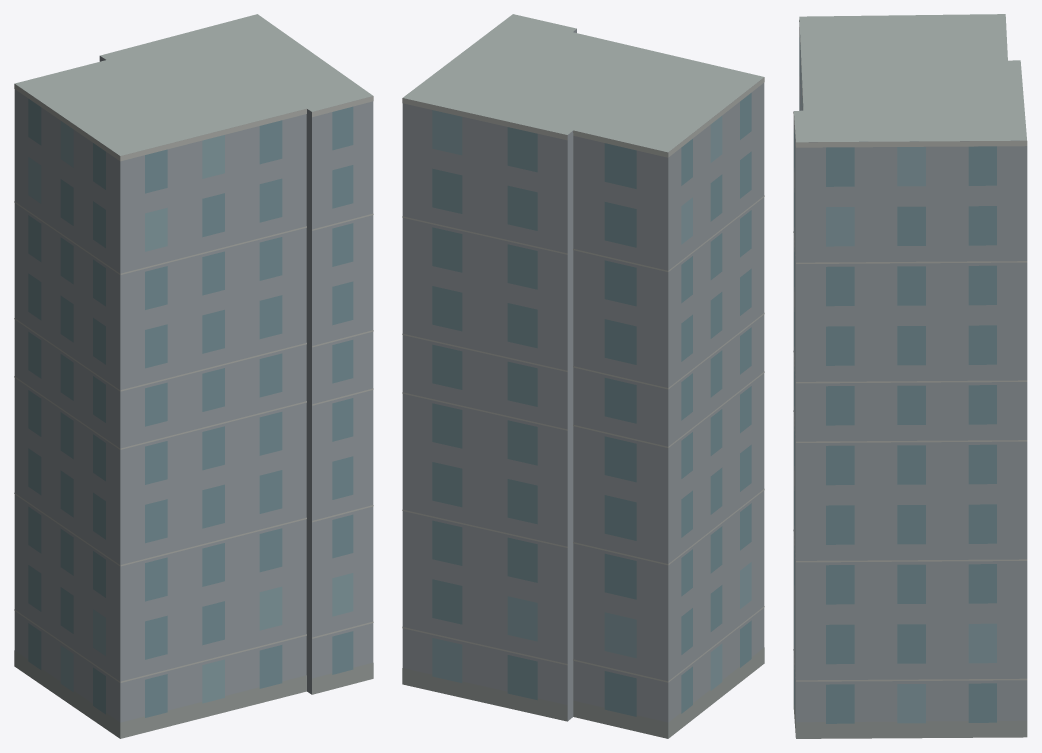
File: survey-upis-32967059.glb
3 views of the same model, side by side, from view 1: azimuth 30°, elevation 25°; view 2: azimuth 150°, elevation 25°; view 3: azimuth 270°, elevation 25° (orthographic). The views are drawn at different scales.
Parts seen in each view (by area): view 1: survey-upis-32967059.tmp; view 2: survey-upis-32967059.tmp; view 3: survey-upis-32967059.tmp.
Boxes of the visible parts, <box> form: survey-upis-32967059.tmp: <box>14,14,373,738</box>; survey-upis-32967059.tmp: <box>402,14,764,738</box>; survey-upis-32967059.tmp: <box>793,14,1027,738</box>.
Bounding box in the file's own units: 12.33 × 26.7 × 9.49.
